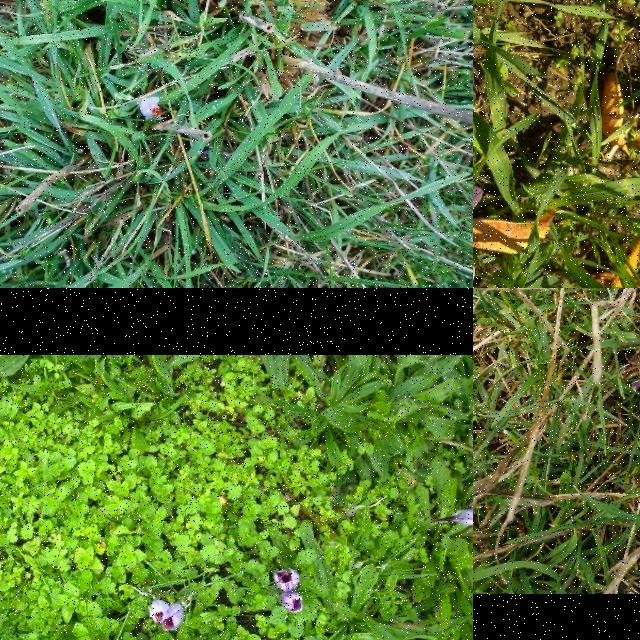flower: (161, 606, 185, 632), (274, 568, 298, 592), (140, 96, 160, 122), (149, 602, 171, 624), (280, 593, 304, 613), (450, 509, 473, 526)
